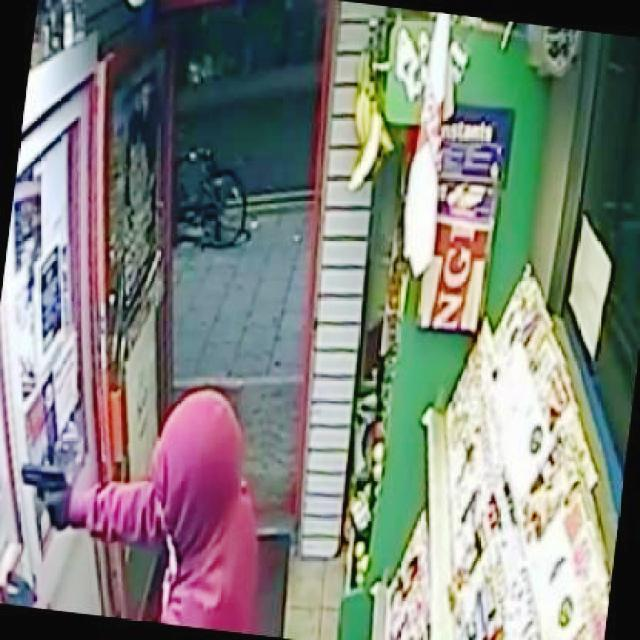Gun: (12, 455, 74, 527)
